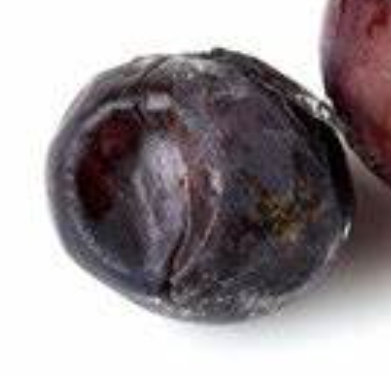plum_C: (44, 45, 356, 324)
